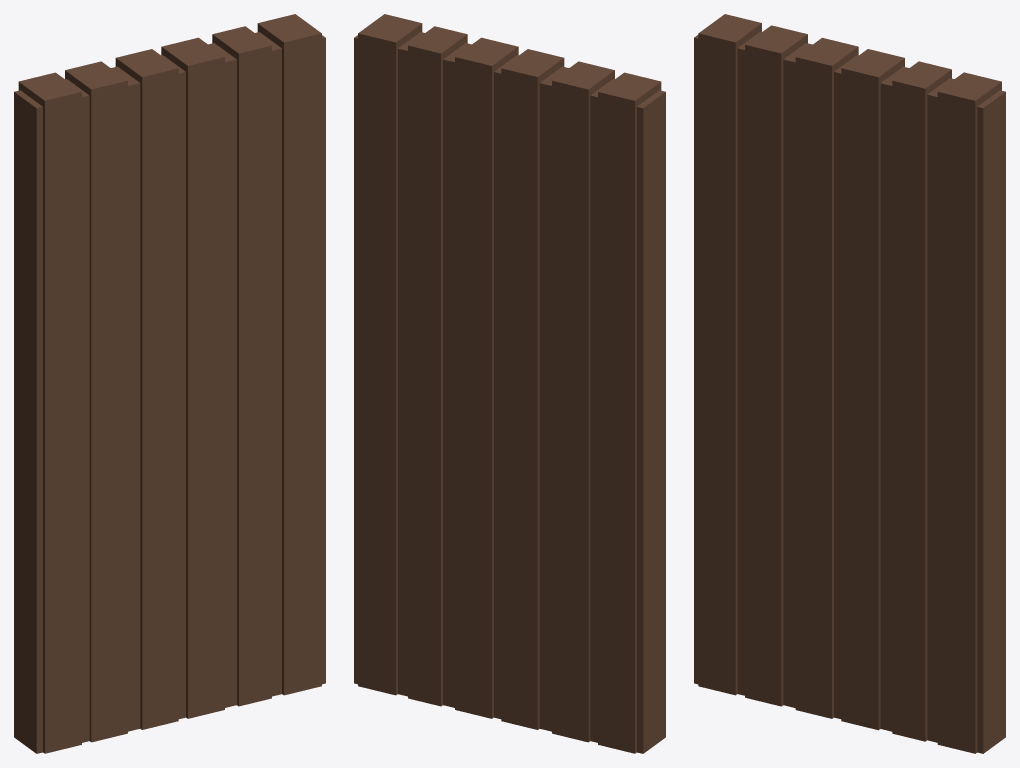
Rendered from ShorterFencePiece.fbx.
3 views of the same model, side by side, from view 1: azimuth 30°, elevation 25°; view 2: azimuth 150°, elevation 25°; view 3: azimuth 330°, elevation 25° (orthographic).
Parts seen in each view (by area): view 1: Cube.003; view 2: Cube.003; view 3: Cube.003.
Boxes of the visible parts, x1,y1,x2,y2 form: Cube.003: (14, 14, 325, 753); Cube.003: (354, 14, 665, 753); Cube.003: (694, 14, 1005, 753).
Size of the model in its own units: 288 by 622 by 45.7.
